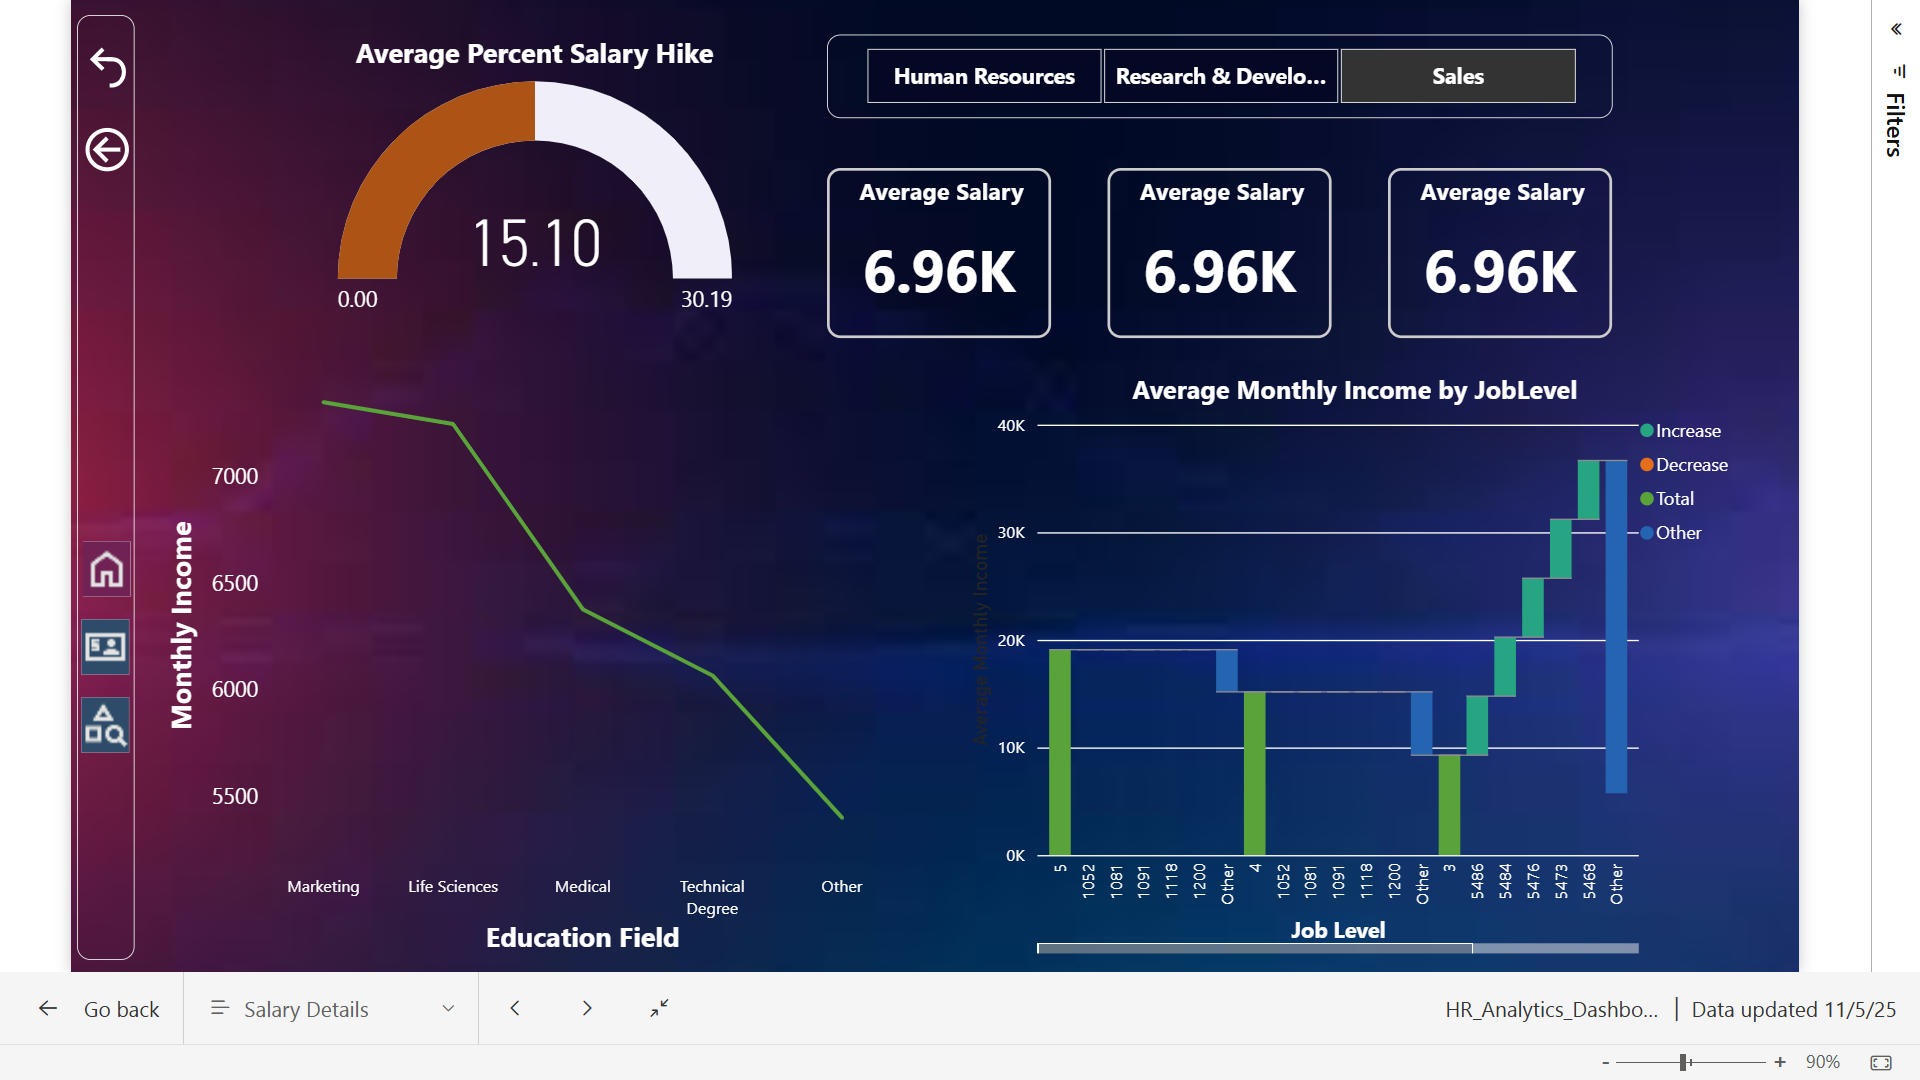

The dashboard page shown, as its layout file describes it:
{"tool":"powerbi","page":{"name":"Salary Details","canvas":[1280,720],"ordinal":1},"visuals":[{"type":"shape","box":[4.8,11.1,42.9,699.9],"z":0},{"type":"card","title":"Average Salary","fields":{"Values":["Avg(Table1.MonthlyIncome)"]},"box":[560,124,166,126],"z":0,"group":"g1"},{"type":"actionButton","box":[9.4,401,35.2,40.6],"z":0,"group":"g2"},{"type":"group","id":"g1","title":"Group 1","box":[560,124,582,126],"z":1000},{"type":"card","title":"Average Salary","fields":{"Values":["Avg(Table1.MonthlyIncome)"]},"box":[768,124,166,126],"z":1000,"group":"g1"},{"type":"actionButton","box":[8.1,458.7,35.2,40.6],"z":1000,"group":"g2"},{"type":"card","title":"Average Salary","fields":{"Values":["Avg(Table1.MonthlyIncome)"]},"box":[976,124,166,126],"z":2000,"group":"g1"},{"type":"lineChart","title":"Monthly Income by Education Field","fields":{"Category":["Table1.EducationField"],"Y":["Avg(Table1.MonthlyIncome)"]},"box":[66.8,275.2,553.5,435.8],"z":2000},{"type":"actionButton","box":[8.1,516.3,35.2,40.6],"z":2000,"group":"g2"},{"type":"gauge","title":"Average Percent Salary Hike","fields":{"Y":["Avg(Table1.PercentSalaryHike)"]},"box":[192.5,25.4,302.2,219.5],"z":3000},{"type":"waterfallChart","title":"Average Monthly Income by JobLevel","fields":{"Category":["Table1.JobLevel"],"Y":["Avg(Table1.MonthlyIncome)"],"Breakdown":["Table1.MonthlyIncome"]},"box":[660.1,275.2,582.2,435.8],"z":4000},{"type":"actionButton","box":[8,30.2,39.8,39.8],"z":5000},{"type":"actionButton","box":[6.1,85.1,42.5,50.6],"z":6000},{"type":"group","id":"g2","title":"Group 1","box":[8.1,401,34.4,155.9],"z":7000},{"type":"slicer","fields":{"Values":["Table1.Department"]},"box":[559.9,25.4,582.2,62],"z":8000}]}

Visuals, with their boxes on the page's 1280x720 design canvas (x1, y1, x2, y2). These are canvas units, not pixel positions in the 1920x1080 screenshot, which may show the page scaled, cropped or inside an application window:
shape: bbox=(5, 11, 48, 711)
"Average Salary" card: bbox=(560, 124, 726, 250)
actionButton: bbox=(9, 401, 45, 442)
"Group 1" group: bbox=(560, 124, 1142, 250)
"Average Salary" card: bbox=(768, 124, 934, 250)
actionButton: bbox=(8, 459, 43, 499)
"Average Salary" card: bbox=(976, 124, 1142, 250)
"Monthly Income by Education Field" lineChart: bbox=(67, 275, 620, 711)
actionButton: bbox=(8, 516, 43, 557)
"Average Percent Salary Hike" gauge: bbox=(192, 25, 495, 245)
"Average Monthly Income by JobLevel" waterfallChart: bbox=(660, 275, 1242, 711)
actionButton: bbox=(8, 30, 48, 70)
actionButton: bbox=(6, 85, 49, 136)
"Group 1" group: bbox=(8, 401, 42, 557)
slicer - Table1.Department: bbox=(560, 25, 1142, 87)
